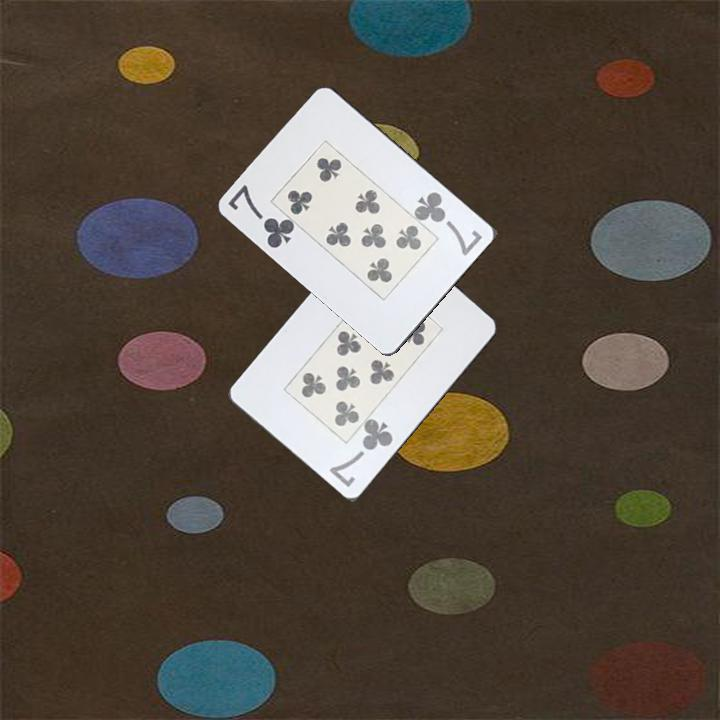7c: (326, 416, 396, 491), (411, 188, 486, 258), (224, 181, 298, 251)
